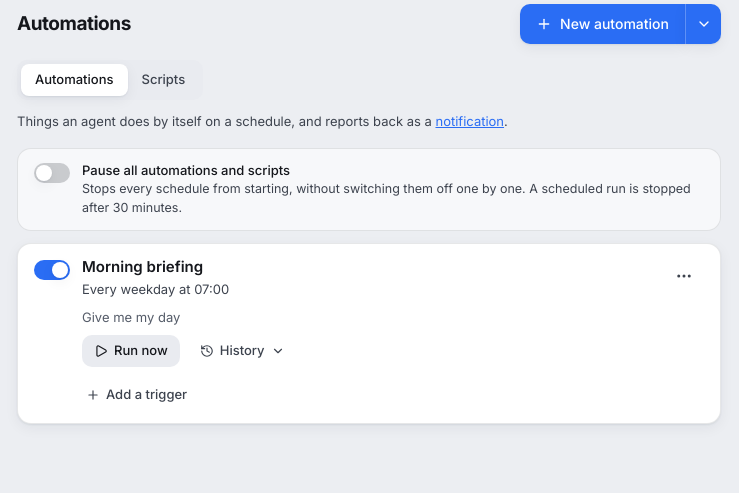
Scenario: the automations page › counts up while a run works, and stands still while it waits for you
The image size is (739, 493).
Click the button "History": (242, 351) [188, 335, 297, 367]
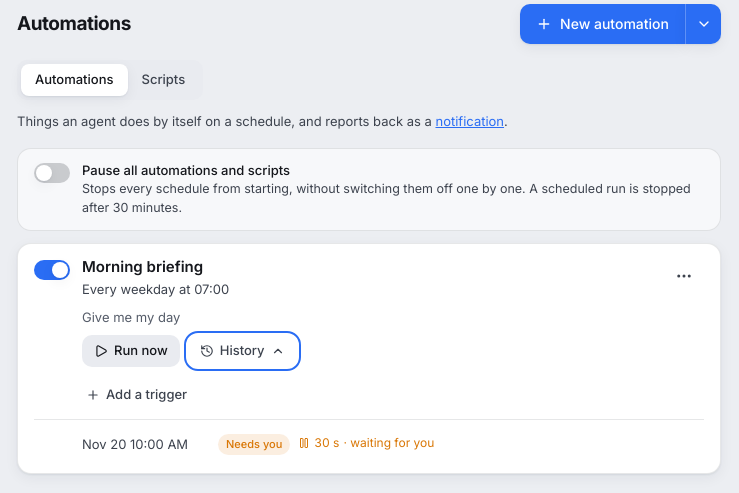
Now the text "· waiting for you" is shown, box [343, 434, 434, 452]
Now the text "30 s" is shown, box [314, 434, 339, 452]
